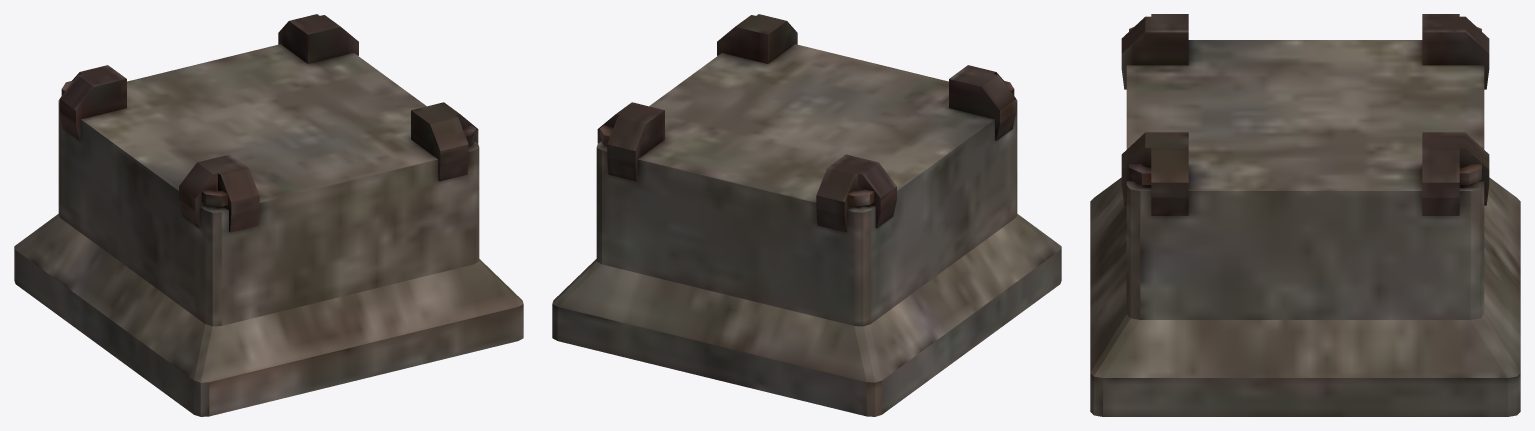
Rendered from concrete-plinth.gltf.
3 views of the same model, side by side, from view 1: azimuth 30°, elevation 25°; view 2: azimuth 150°, elevation 25°; view 3: azimuth 270°, elevation 25° (orthographic). The views are drawn at different scales.
Visible parts, largest first — view 1: Cube.050; view 2: Cube.050; view 3: Cube.050.
Part boxes in pixels (x1,y1,x2,y2): Cube.050: (14, 14, 523, 416); Cube.050: (552, 14, 1061, 416); Cube.050: (1090, 14, 1520, 416).
Bounding box in the file's own units: 1.92 × 1.2 × 1.92.
Materials: 1 (1 with a texture image).
